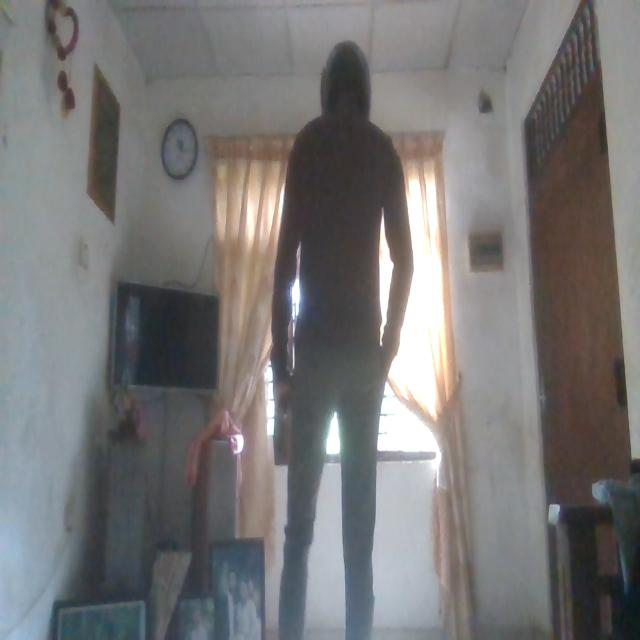Helmet_Wearer: (320, 43, 375, 124)
Person: (273, 41, 411, 640)
